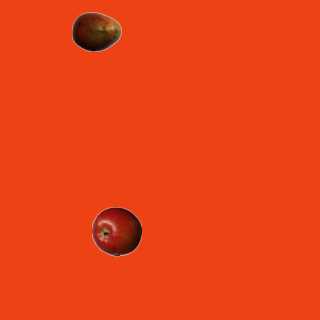Apple Braeburn: (91, 206, 141, 256)
Mango Red: (71, 6, 121, 56)
